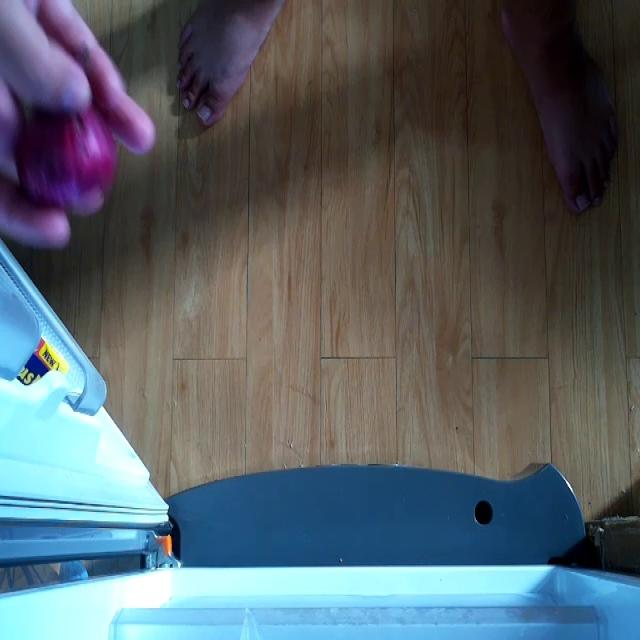onion: (14, 75, 116, 209)
